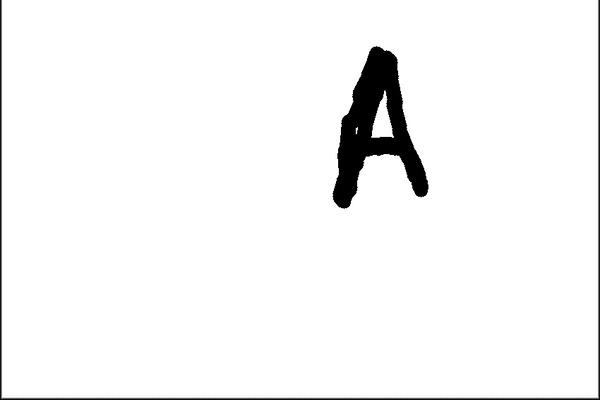A: (320, 43, 442, 210)
